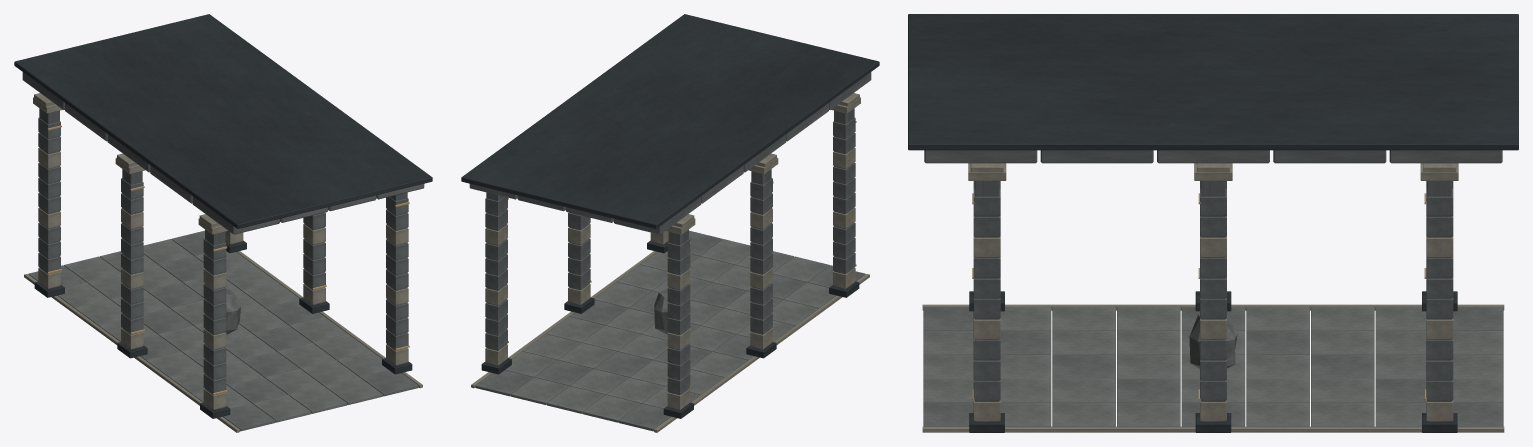
Rendered from chronicle-shaft-v02.glb.
3 views of the same model, side by side, from view 1: azimuth 30°, elevation 25°; view 2: azimuth 150°, elevation 25°; view 3: azimuth 270°, elevation 25° (orthographic). The views are drawn at different scales.
Parts seen in each view (by area): view 1: Cracked roof continuous backing.001, Ground level limestone paving.046, Continuous support body.006, Ground level limestone paving.045, Cross gallery supported lintel.003, Gallery edge coping.002, Editable fractured roof panel.021, Fractured sediment stone.001; view 2: Cracked roof continuous backing.001, Ground level limestone paving.046, Continuous support body.006, Ground level limestone paving.045, Cross gallery supported lintel.003, Gallery edge coping.002, Editable fractured roof panel.021, Fractured sediment stone.001; view 3: Cracked roof continuous backing.001, Ground level limestone paving.046, Continuous support body.006, Ground level limestone paving.045, Cross gallery supported lintel.003, Gallery edge coping.002, Editable fractured roof panel.021, Fractured sediment stone.001.
Boxes of the visible parts, bbox=[...] form: Cracked roof continuous backing.001: bbox=[14, 14, 432, 418]; Ground level limestone paving.046: bbox=[57, 239, 388, 422]; Continuous support body.006: bbox=[22, 72, 408, 410]; Ground level limestone paving.045: bbox=[28, 230, 418, 431]; Cross gallery supported lintel.003: bbox=[33, 93, 408, 409]; Gallery edge coping.002: bbox=[24, 251, 422, 432]; Editable fractured roof panel.021: bbox=[65, 103, 424, 222]; Fractured sediment stone.001: bbox=[225, 289, 240, 334]; Cracked roof continuous backing.001: bbox=[461, 14, 879, 418]; Ground level limestone paving.046: bbox=[505, 239, 836, 422]; Continuous support body.006: bbox=[485, 72, 871, 410]; Ground level limestone paving.045: bbox=[475, 230, 865, 431]; Cross gallery supported lintel.003: bbox=[485, 93, 860, 409]; Gallery edge coping.002: bbox=[471, 251, 869, 432]; Editable fractured roof panel.021: bbox=[469, 103, 828, 222]; Fractured sediment stone.001: bbox=[654, 288, 668, 333]; Cracked roof continuous backing.001: bbox=[908, 14, 1518, 432]; Ground level limestone paving.046: bbox=[923, 307, 1503, 426]; Continuous support body.006: bbox=[973, 150, 1453, 422]; Ground level limestone paving.045: bbox=[923, 307, 1503, 426]; Cross gallery supported lintel.003: bbox=[968, 163, 1458, 420]; Gallery edge coping.002: bbox=[922, 304, 1504, 432]; Editable fractured roof panel.021: bbox=[924, 150, 1502, 163]; Fractured sediment stone.001: bbox=[1189, 314, 1237, 368].
Size of the model in its own units: 9.86 by 9.96 by 18.9.
Materials: 7 (6 with a texture image).
